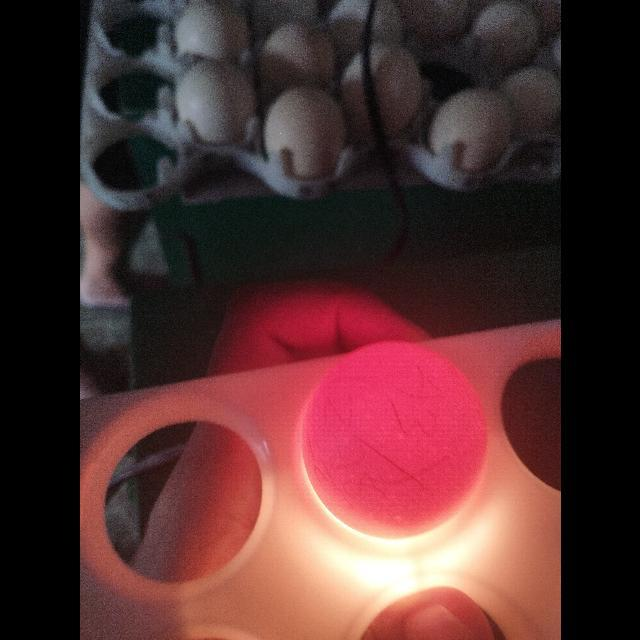Infertile: (296, 336, 497, 544)
